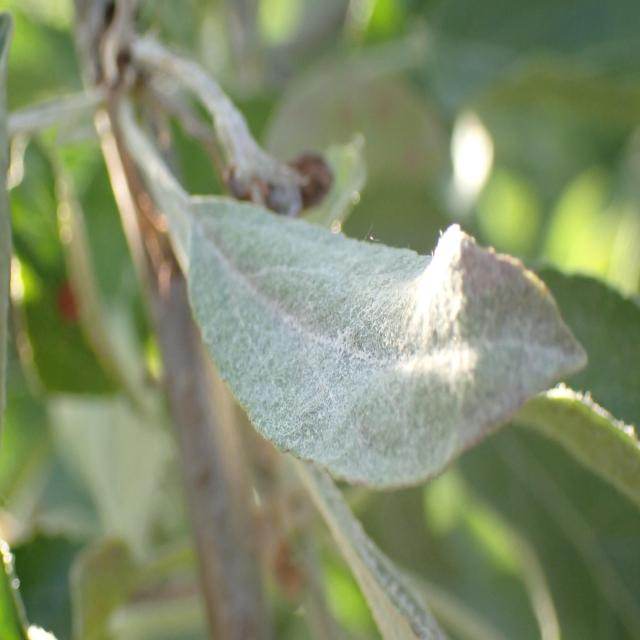Powdery_mildew: (167, 174, 602, 492)
